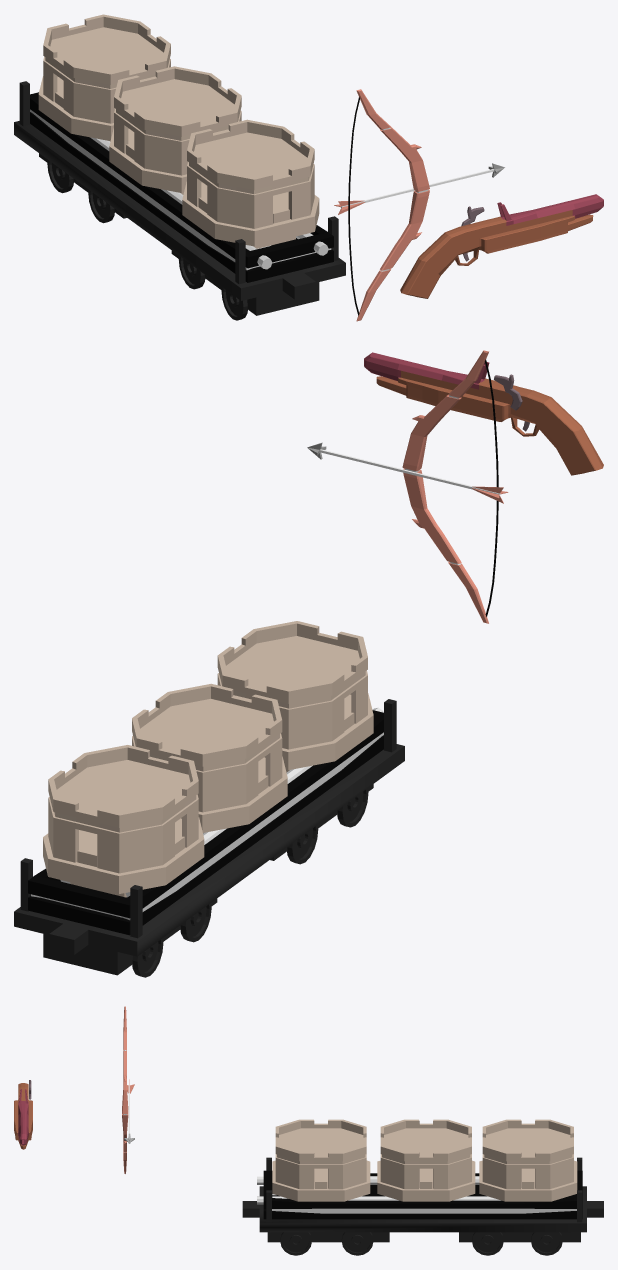
The model's file is weapon_turret.fbx.
3 views of the same model, one above another, from view 1: azimuth 30°, elevation 25°; view 2: azimuth 150°, elevation 25°; view 3: azimuth 270°, elevation 25° (orthographic). The views are drawn at different scales.
Visible parts, largest first — view 1: Cube.001, Cube.002, Cube.003, Cube, cabin set, gun, bow, cabin set1, Plane.004, Cylinder, Circle.003, Circle.001 (+5 smaller); view 2: Cube.003, Cube.001, Cube.002, Cube, cabin set, gun, bow, cabin set2, Plane.004; view 3: Cube.001, Cube.002, Cube.003, Cube, cabin set, gun, bow, cabin set1, cabin set2, Cylinder, Circle.002, Circle (+2 smaller).
Part boxes in pixels (box(x1,y1,x2,y2)): Cube.001: box(182, 119, 319, 248); Cube.002: box(109, 66, 241, 194); Cube.003: box(38, 14, 170, 141); Cube: box(30, 92, 333, 282); cabin set: box(14, 121, 345, 300); gun: box(400, 194, 603, 298); bow: box(356, 89, 429, 321); cabin set1: box(171, 250, 319, 315); Plane.004: box(334, 163, 504, 214); Cylinder: box(90, 137, 328, 269); Circle.003: box(221, 287, 247, 320); Circle.001: box(88, 190, 114, 223); Cube.003: box(43, 745, 204, 897); Cube.001: box(217, 621, 373, 772); Cube.002: box(132, 683, 287, 833); Cube: box(28, 710, 383, 935); cabin set: box(14, 744, 404, 956); gun: box(364, 352, 603, 475); bow: box(402, 350, 488, 623); cabin set2: box(43, 898, 217, 975); Plane.004: box(307, 442, 508, 503); Cube.001: box(272, 1119, 370, 1201); Cube.002: box(377, 1119, 475, 1201); Cube.003: box(479, 1119, 577, 1201); Cube: box(263, 1170, 582, 1219); cabin set: box(242, 1186, 603, 1232); gun: box(14, 1083, 32, 1149); bow: box(122, 1006, 128, 1173); cabin set1: box(267, 1232, 389, 1242); cabin set2: box(459, 1232, 580, 1242); Cylinder: box(257, 1176, 500, 1204); Circle.002: box(341, 1232, 373, 1255); Circle: box(531, 1232, 562, 1255).
Bounding box in the file's own units: 369 × 549 × 1298.
